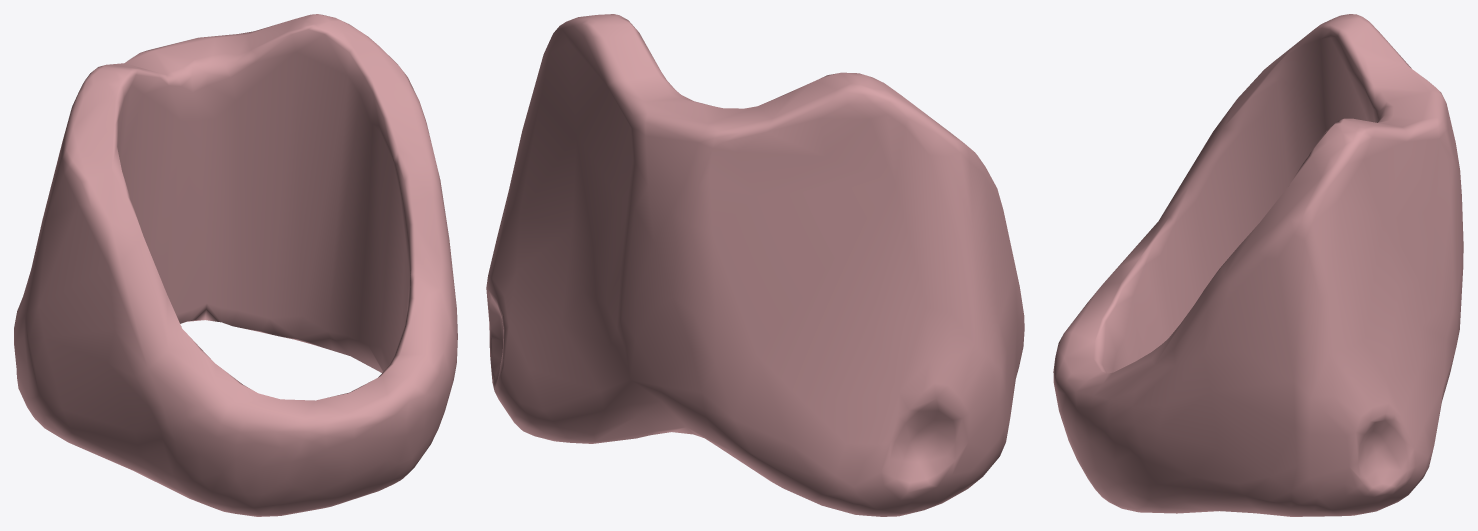
Rendered from fma9615_mm1177.glb.
3 renders of one model, left to right at view 1: azimuth 30°, elevation 25°; view 2: azimuth 150°, elevation 25°; view 3: azimuth 270°, elevation 25°, orthographic. The views are drawn at different scales.
Visible parts, largest first — view 1: FMA9615_MM1177; view 2: FMA9615_MM1177; view 3: FMA9615_MM1177.
Part boxes in pixels (box(x1,y1,x2,y2)): FMA9615_MM1177: box(14, 14, 457, 516); FMA9615_MM1177: box(486, 14, 1024, 516); FMA9615_MM1177: box(1053, 14, 1463, 516).
Size of the model in its own units: 0.023 by 0.0205 by 0.0189.
